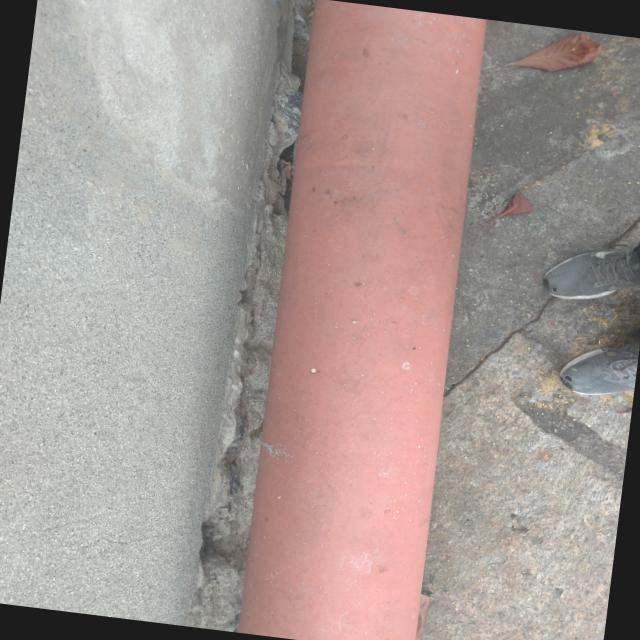gas: (244, 2, 478, 640)
